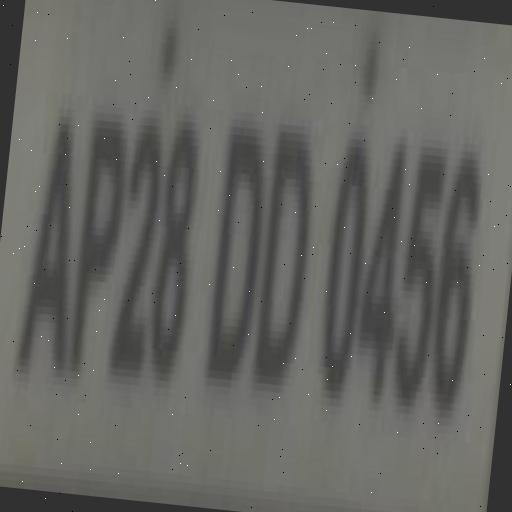number plate: (0, 4, 509, 512)
